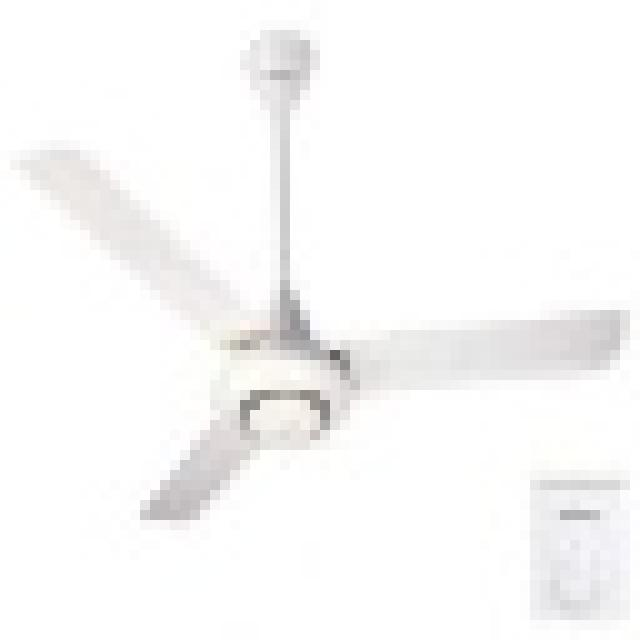Bulb: (10, 96, 640, 550)
